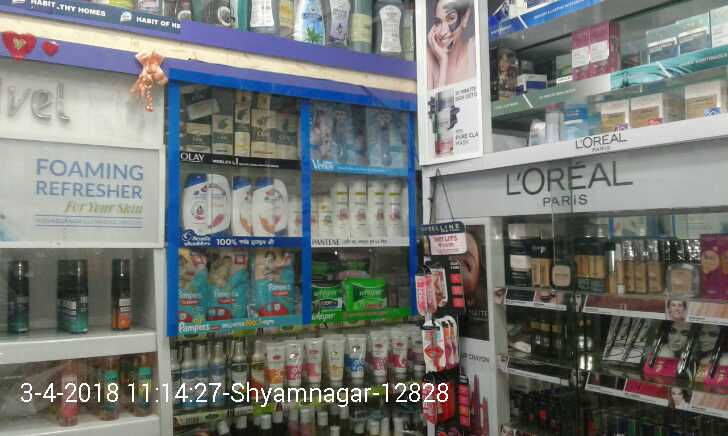venus: (366, 108, 401, 168), (326, 105, 359, 164)
